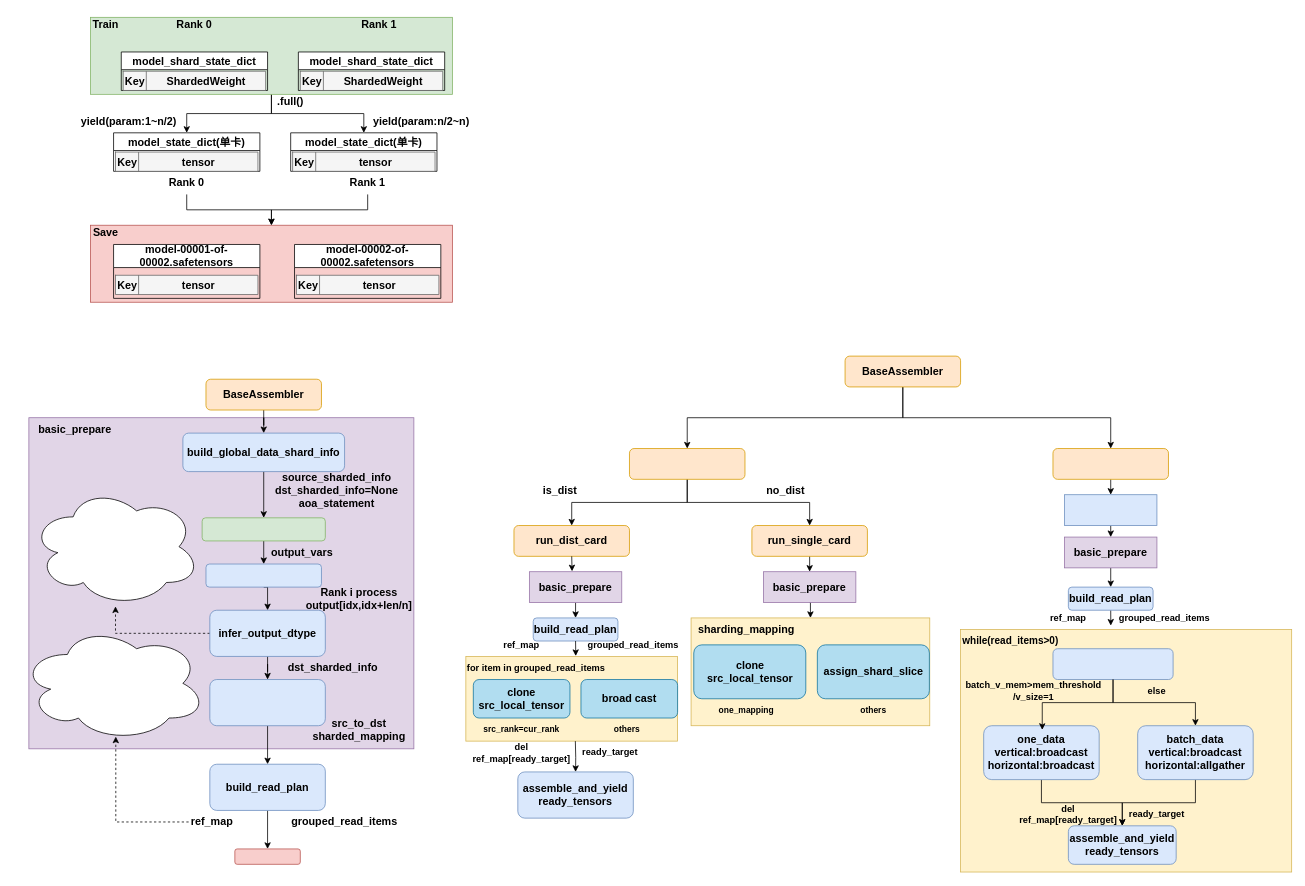
Some shapes in this 1305 by 886 pixel diagram are drawn without their labels. Each missing label, with the box of its shape:
aoa. find_shard_source &filter_remove_param: (209, 679, 325, 726)
AOAEngine: (201, 517, 325, 541)
build_topology: (1064, 494, 1157, 526)
cast保存在process_list， 用于后处理，此时output 的dtype仍然是src_dtype， 需要根据 process_list推导: (30, 486, 200, 606)
HVCommGroup FullParamAssembler: (1052, 448, 1168, 479)
process_one_batch: (1052, 648, 1173, 680)
run: (234, 848, 300, 864)
SingleCommGroup FullParamAssembler: (629, 448, 745, 479)
split_output_vars: (205, 563, 321, 587)
保存src->target的映射， 当拿到target需要的 全部的src分片时，记录target 为ready_tensor，做一次 切片和赋值: (20, 625, 206, 741)
